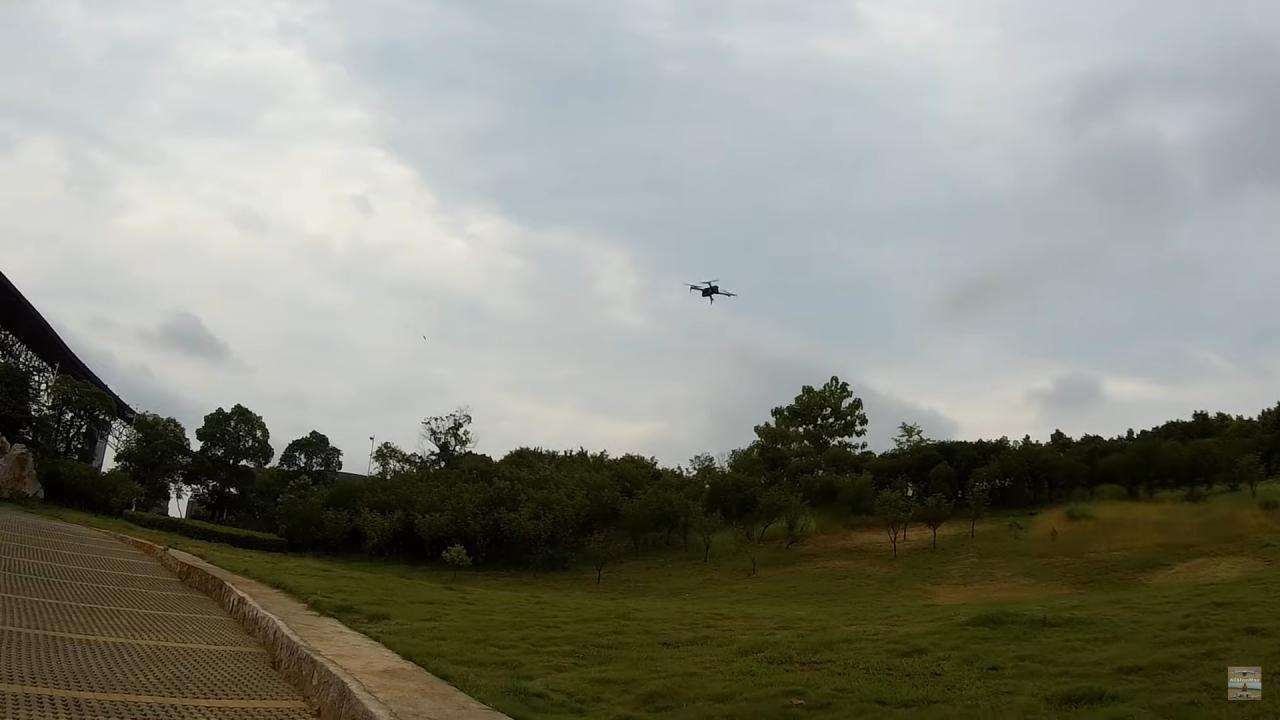Drone: (673, 270, 746, 312)
